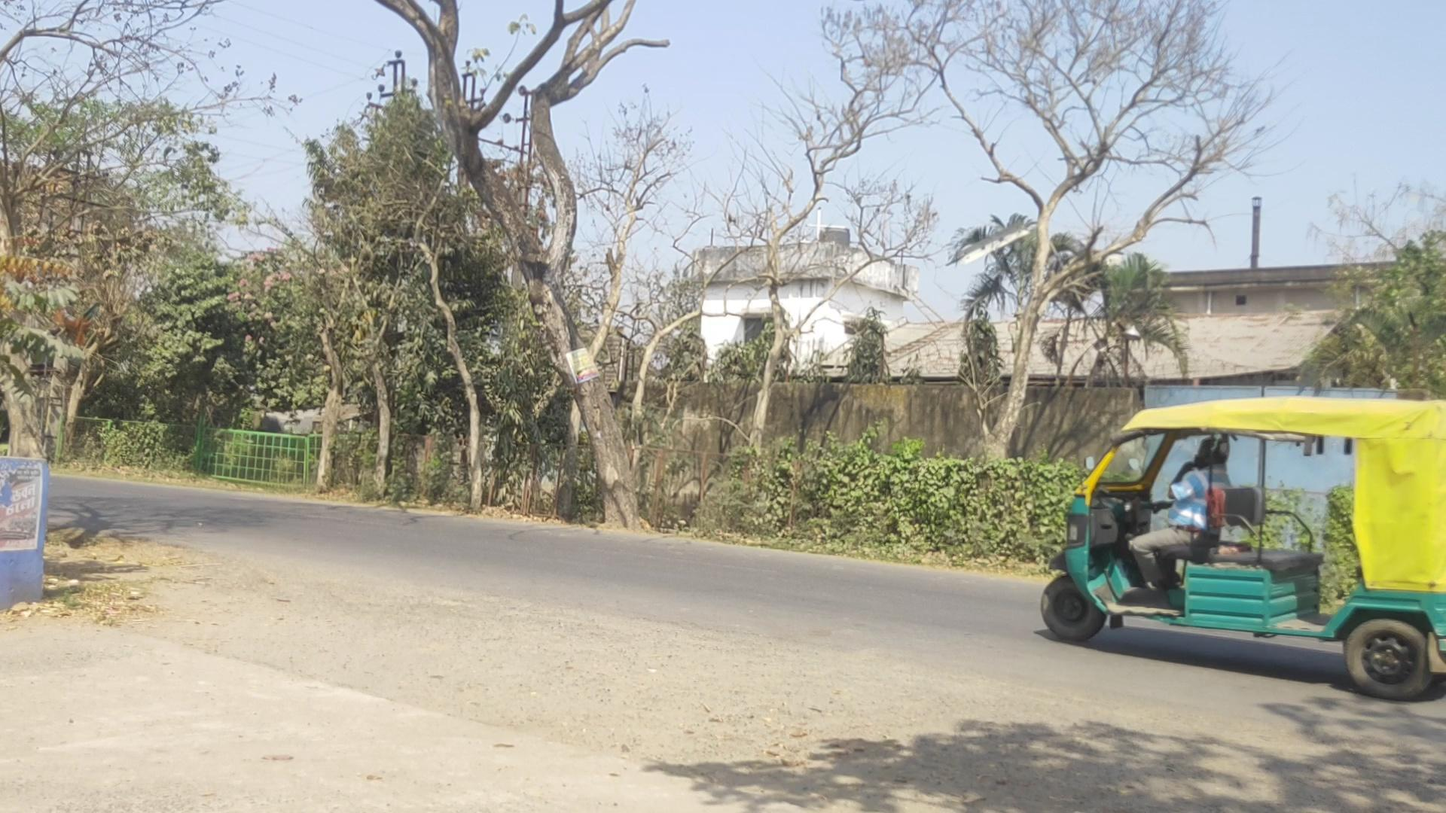Auto: (1041, 397, 1446, 701)
